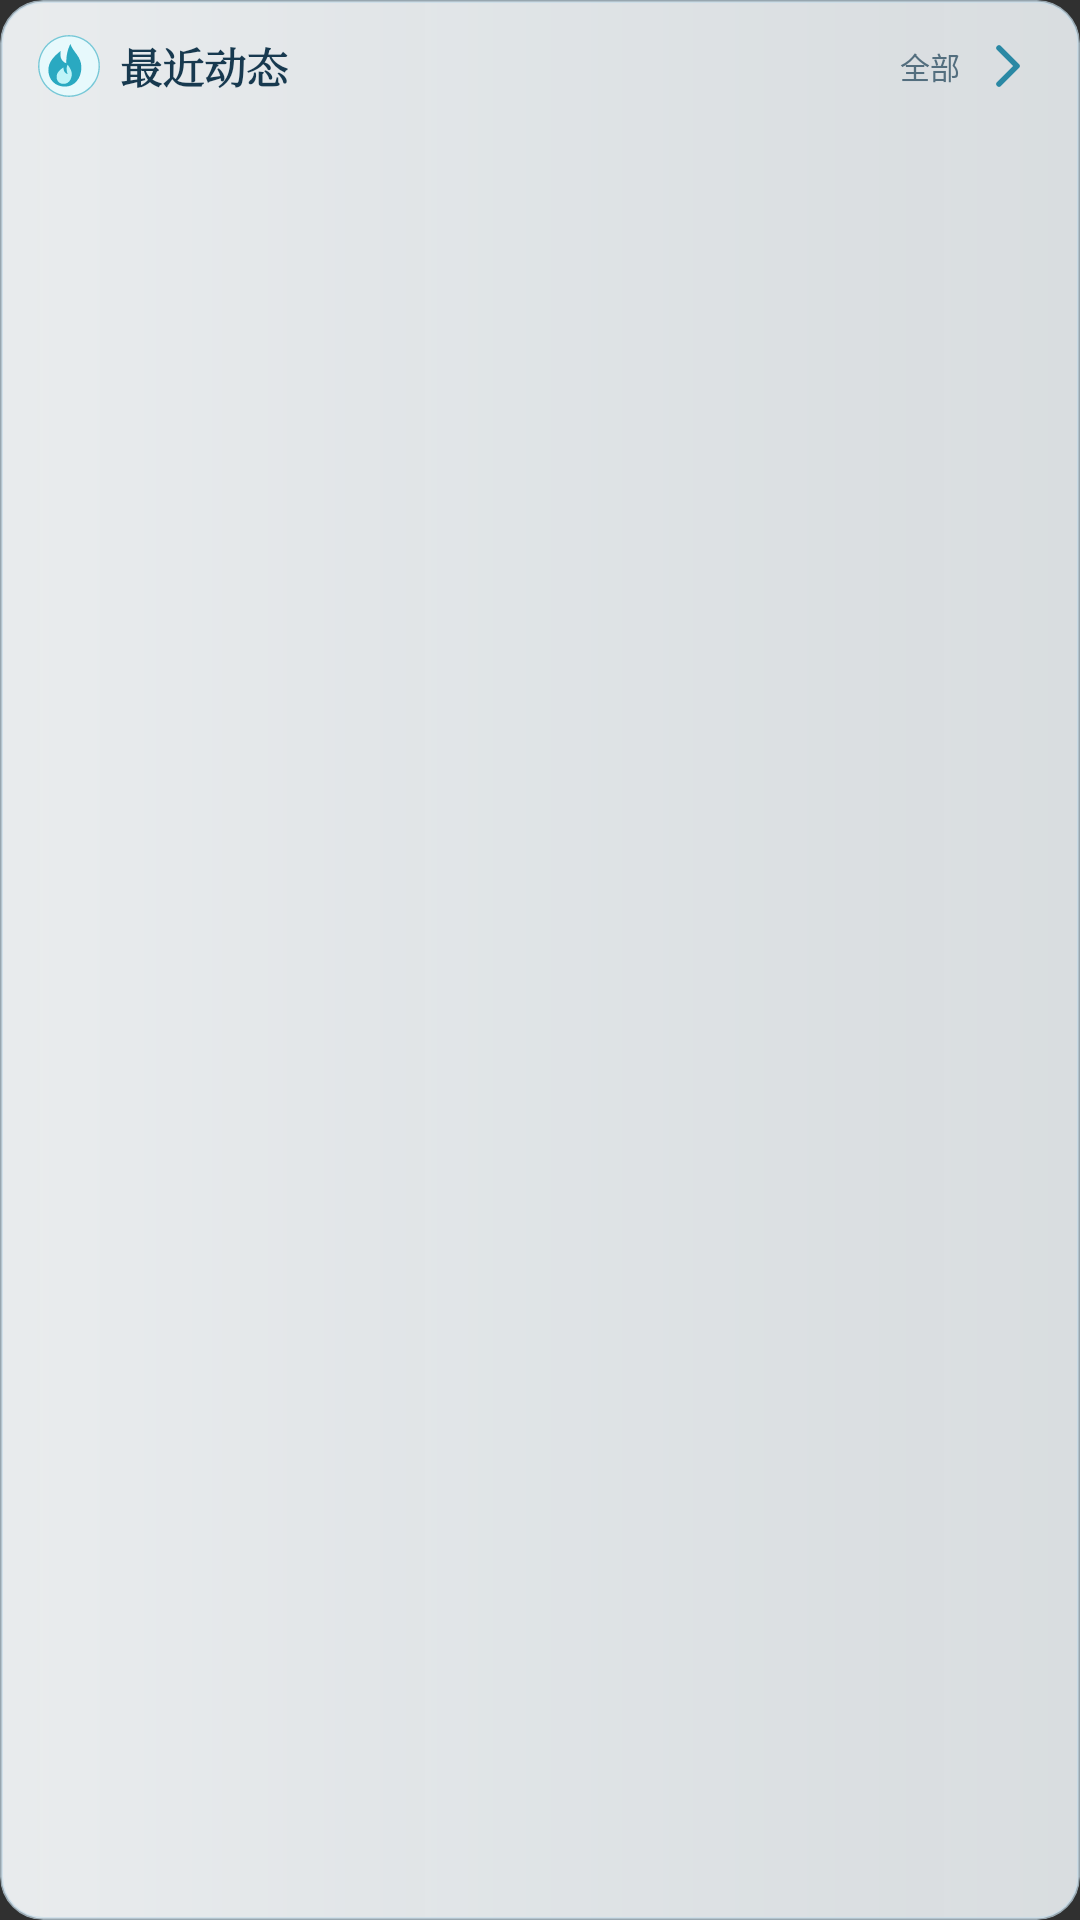

Screen size 1080*1920. Icon name, then its box in pixels as (x1=x1, y1=y1, x2=x2, y2=y2):
core streak: (x1=38, y1=35, x2=100, y2=97)
